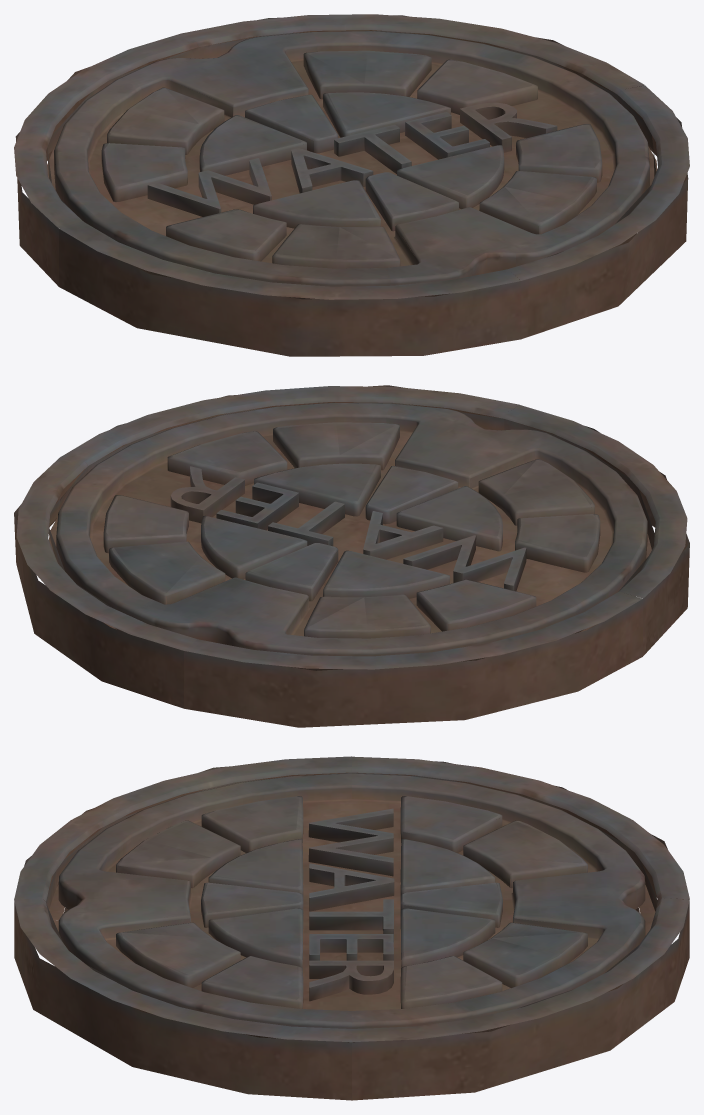
Rendered from ph_manhole.glb.
3 renders of one model, top to bottom at view 1: azimuth 30°, elevation 25°; view 2: azimuth 150°, elevation 25°; view 3: azimuth 270°, elevation 25°, orthographic.
Visible parts, largest first — view 1: water_manhole_cover, water_manhole_cover_frame; view 2: water_manhole_cover, water_manhole_cover_frame; view 3: water_manhole_cover, water_manhole_cover_frame.
Part boxes in pixels (<box>): water_manhole_cover: <box>54,31,649,286</box>; water_manhole_cover_frame: <box>14,14,689,356</box>; water_manhole_cover: <box>56,402,647,656</box>; water_manhole_cover_frame: <box>14,385,689,727</box>; water_manhole_cover: <box>58,773,645,1028</box>; water_manhole_cover_frame: <box>14,756,689,1100</box>.
Bounding box in the file's own units: 0.6916 × 0.0676 × 0.6915.
1 material, 1 textured.
